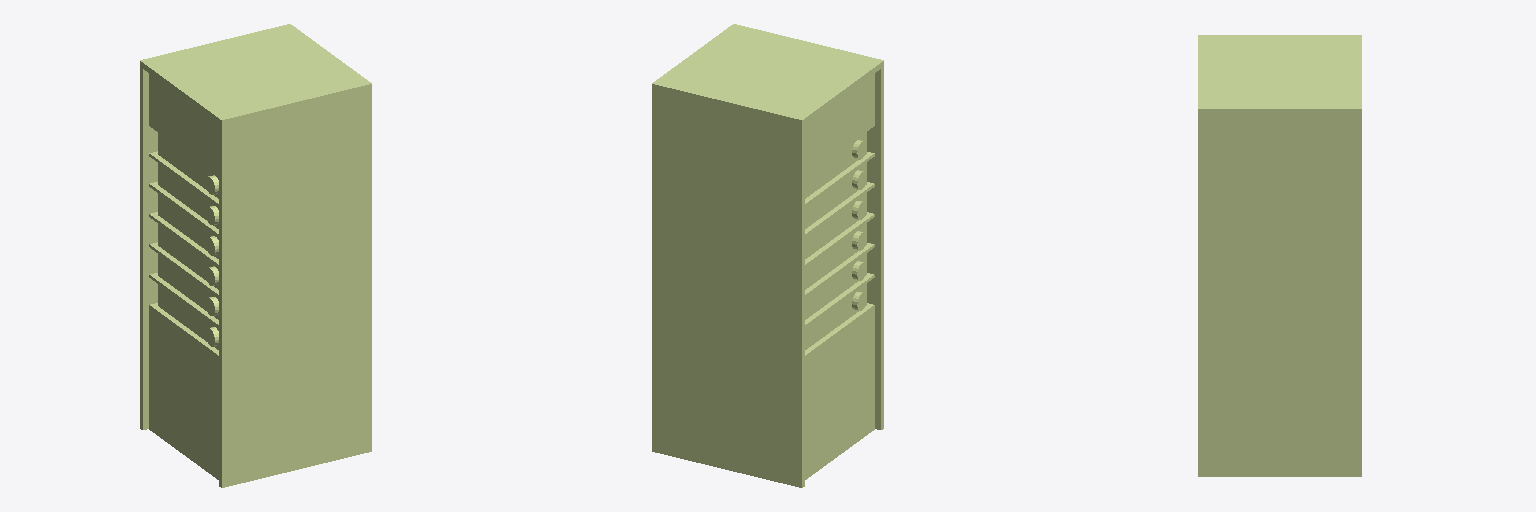
File: studio_databox2.obj
3 renders of one model, left to right at view 1: azimuth 30°, elevation 25°; view 2: azimuth 150°, elevation 25°; view 3: azimuth 270°, elevation 25°, orthographic.
Visible parts, largest first — view 1: Box009; view 2: Box009; view 3: Box009.
Boxes of the visible parts, box(x1,y1,x2,y2) form: Box009: box(140, 24, 371, 487); Box009: box(652, 24, 883, 487); Box009: box(1198, 35, 1361, 476).
Bounding box in the file's own units: 0.9376 × 2.19 × 0.8842.